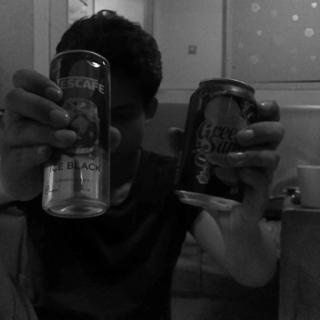alumunium_can: (40, 49, 112, 222), (174, 78, 261, 210)
